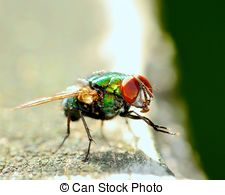green bottles fly: (11, 56, 183, 165)
